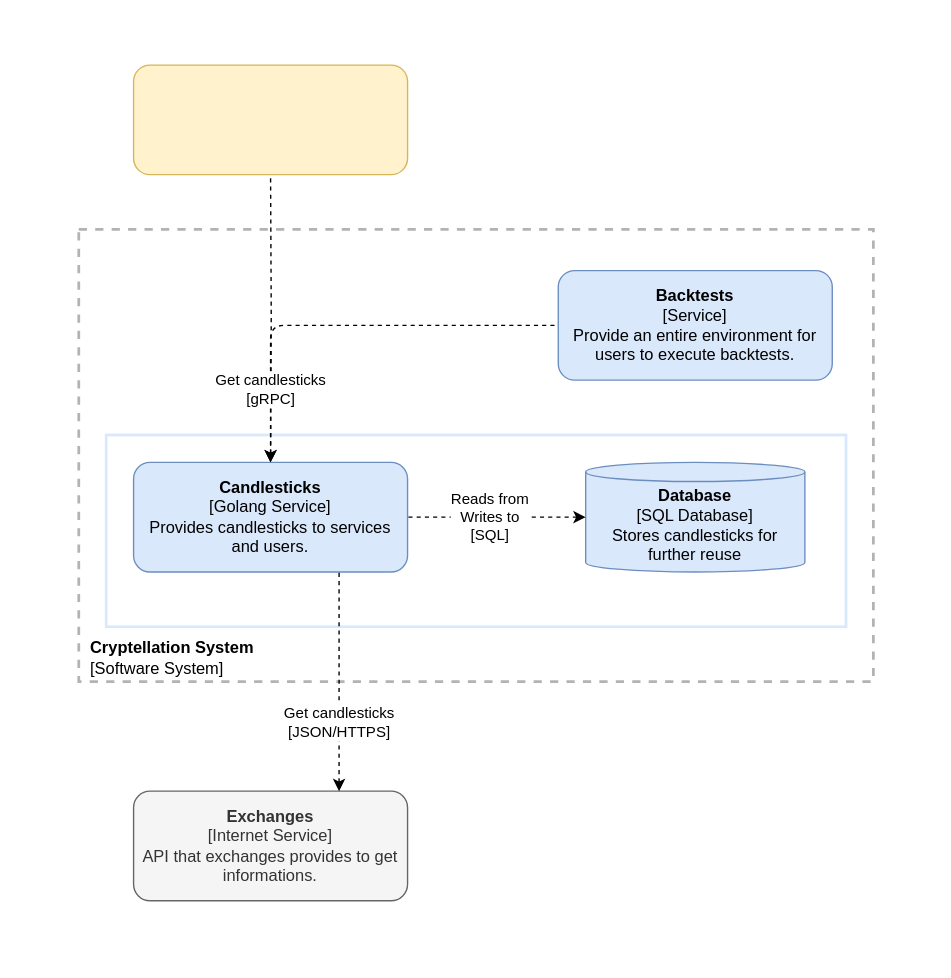
The diagram is 951 pixels wide and 978 high, and some of its shapes have lost their labels. The box of each missing label's shape, as (x1, y1, x2, y2) in pixels:
Candlesticks [Microservice]: (104, 433, 847, 627)
User [Application] Application that a user will run to execute its strategies.: (132, 64, 408, 175)
